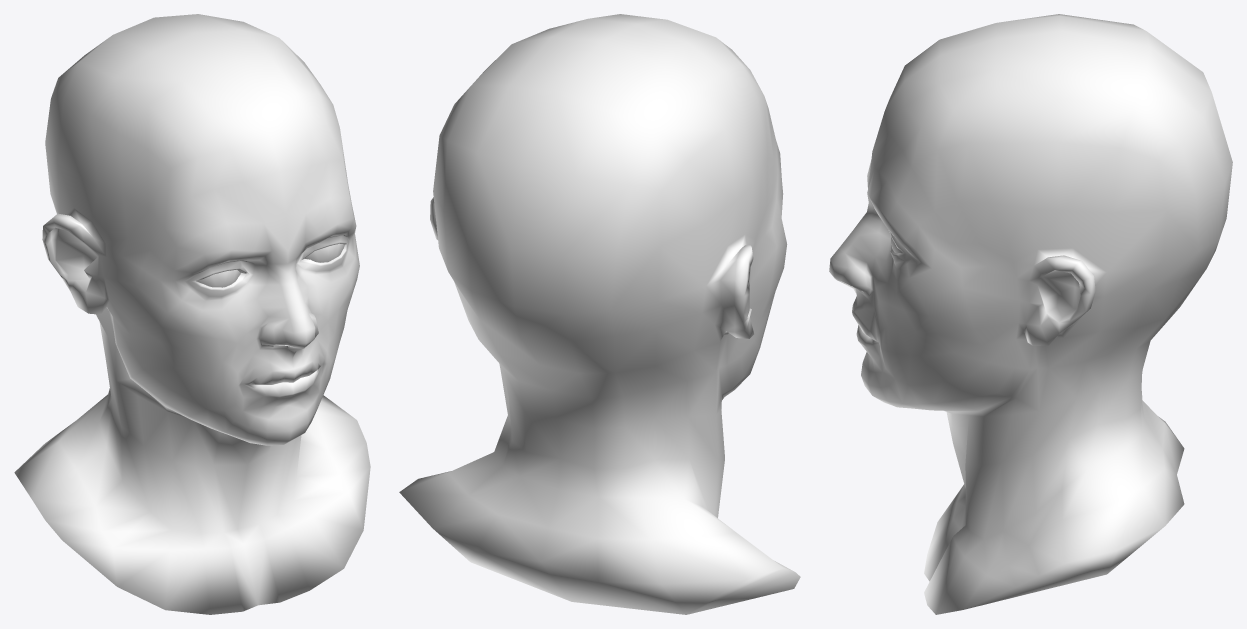
Rendered from head.obj.
3 renders of one model, left to right at view 1: azimuth 30°, elevation 25°; view 2: azimuth 150°, elevation 25°; view 3: azimuth 270°, elevation 25°, orthographic. The views are drawn at different scales.
Visible parts, largest first — view 1: Figure_1; view 2: Figure_1; view 3: Figure_1.
Boxes of the visible parts, left/top/right/bottom form: Figure_1: left=14, top=14, right=370, bottom=614; Figure_1: left=399, top=14, right=800, bottom=614; Figure_1: left=829, top=14, right=1232, bottom=614.
Bounding box in the file's own units: 22.21 × 34.36 × 22.75.
Materials: 1 (1 with a texture image).
